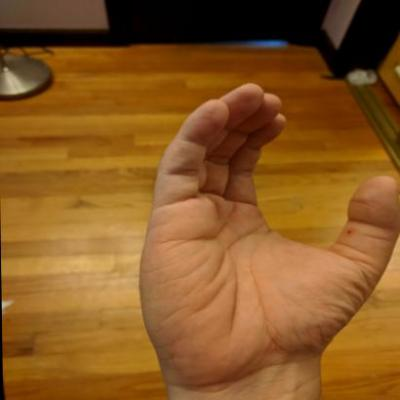hand: (127, 77, 399, 399)
